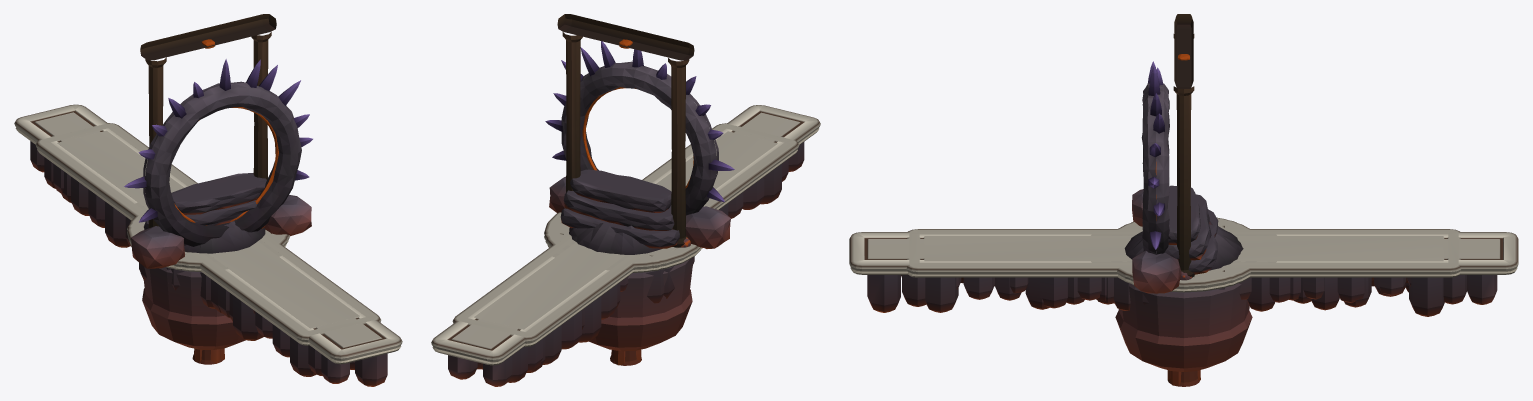
Rendered from volcano-4-B6R5ULJD.glb.
3 renders of one model, left to right at view 1: azimuth 30°, elevation 25°; view 2: azimuth 150°, elevation 25°; view 3: azimuth 270°, elevation 25°, orthographic. The views are drawn at different scales.
Visible parts, largest first — view 1: block_7x2x40#0, portal_#0, block_6x2x48#0, disc_12x1.5#0, pressFrame_7x6x4x7#0, spout_7x2#0, geyserVent_3.9#0, block_6x2x14_ice#0, block_10x2x8#0; view 2: block_7x2x40#0, portal_#0, block_6x2x48#0, pressFrame_7x6x4x7#0, disc_12x1.5#0, spout_7x2#0, geyserVent_3.9#0, block_10x2x8#0; view 3: block_7x2x40#0, block_6x2x48#0, disc_12x1.5#0, portal_#0, pressFrame_7x6x4x7#0, spout_7x2#0, block_6x2x14_ice#0, geyserVent_3.9#0.
Part boxes in pixels (left/top/right/bottom): block_7x2x40#0: left=35, top=123, right=381, bottom=376; portal_#0: left=124, top=59, right=312, bottom=268; block_6x2x48#0: left=14, top=104, right=402, bottom=386; disc_12x1.5#0: left=127, top=210, right=287, bottom=349; pressFrame_7x6x4x7#0: left=140, top=14, right=276, bottom=228; spout_7x2#0: left=144, top=173, right=266, bottom=245; geyserVent_3.9#0: left=184, top=221, right=265, bottom=253; block_6x2x14_ice#0: left=135, top=202, right=281, bottom=313; block_10x2x8#0: left=127, top=222, right=289, bottom=290; block_7x2x40#0: left=452, top=123, right=799, bottom=371; portal_#0: left=545, top=41, right=734, bottom=248; block_6x2x48#0: left=431, top=105, right=820, bottom=386; pressFrame_7x6x4x7#0: left=557, top=14, right=694, bottom=247; disc_12x1.5#0: left=544, top=212, right=702, bottom=351; spout_7x2#0: left=560, top=169, right=679, bottom=248; geyserVent_3.9#0: left=569, top=223, right=662, bottom=254; block_10x2x8#0: left=544, top=223, right=694, bottom=303; block_7x2x40#0: left=906, top=229, right=1461, bottom=316; block_6x2x48#0: left=849, top=232, right=1518, bottom=312; disc_12x1.5#0: left=1111, top=217, right=1256, bottom=371; portal_#0: left=1132, top=61, right=1181, bottom=293; pressFrame_7x6x4x7#0: left=1173, top=14, right=1194, bottom=277; spout_7x2#0: left=1165, top=185, right=1218, bottom=274; block_6x2x14_ice#0: left=1091, top=234, right=1276, bottom=311; geyserVent_3.9#0: left=1124, top=221, right=1243, bottom=270.
Size of the model in its own units: 16.08 by 26.5 by 48.
